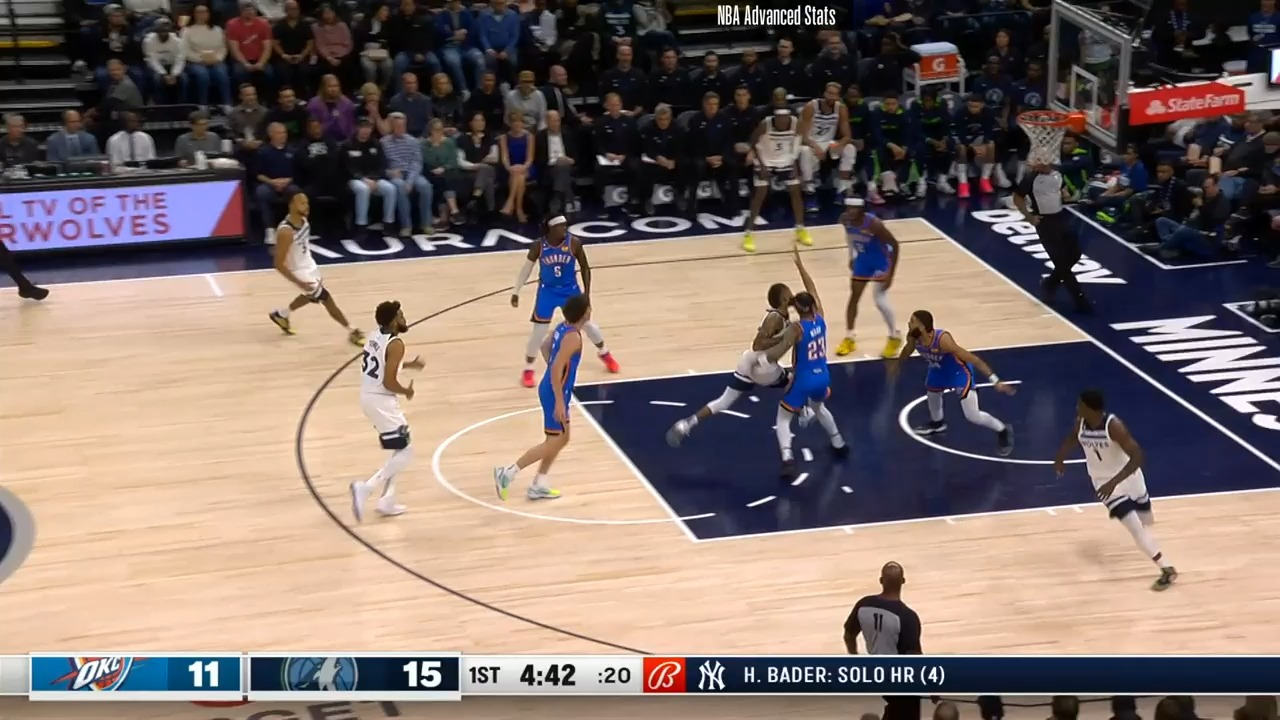net: (1015, 102, 1091, 169)
player: (497, 295, 617, 508), (1060, 385, 1182, 594), (665, 284, 802, 462), (348, 297, 435, 525), (895, 310, 1018, 454), (771, 271, 854, 472), (511, 213, 606, 387), (264, 194, 362, 349), (738, 84, 825, 254), (833, 200, 905, 362)
referee: (1022, 153, 1092, 314), (842, 563, 928, 659), (1, 136, 47, 310)
